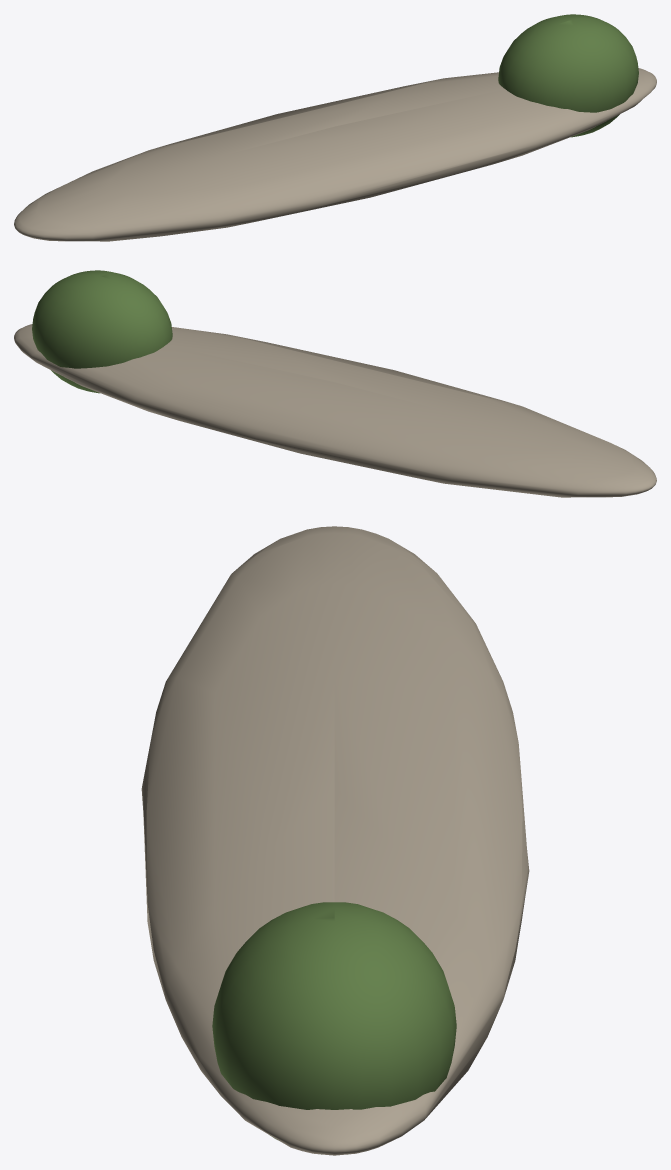
File: f15-sandbank-midchannel.glb
3 renders of one model, top to bottom at view 1: azimuth 30°, elevation 25°; view 2: azimuth 150°, elevation 25°; view 3: azimuth 270°, elevation 25°, orthographic. The views are drawn at different scales.
Visible parts, largest first — view 1: part0, part1; view 2: part0, part1; view 3: part0, part1.
Boxes of the visible parts, left/top/right/bottom form: part0: left=14, top=68, right=656, bottom=241; part1: left=498, top=14, right=638, bottom=137; part0: left=14, top=324, right=656, bottom=497; part1: left=32, top=270, right=172, bottom=393; part0: left=141, top=526, right=529, bottom=1155; part1: left=212, top=902, right=456, bottom=1154.
Bounding box in the file's own units: 30000 × 5000 × 7924.
